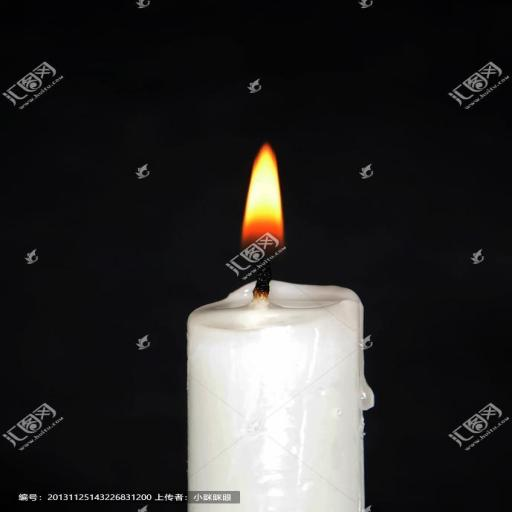fire: (200, 130, 328, 288)
